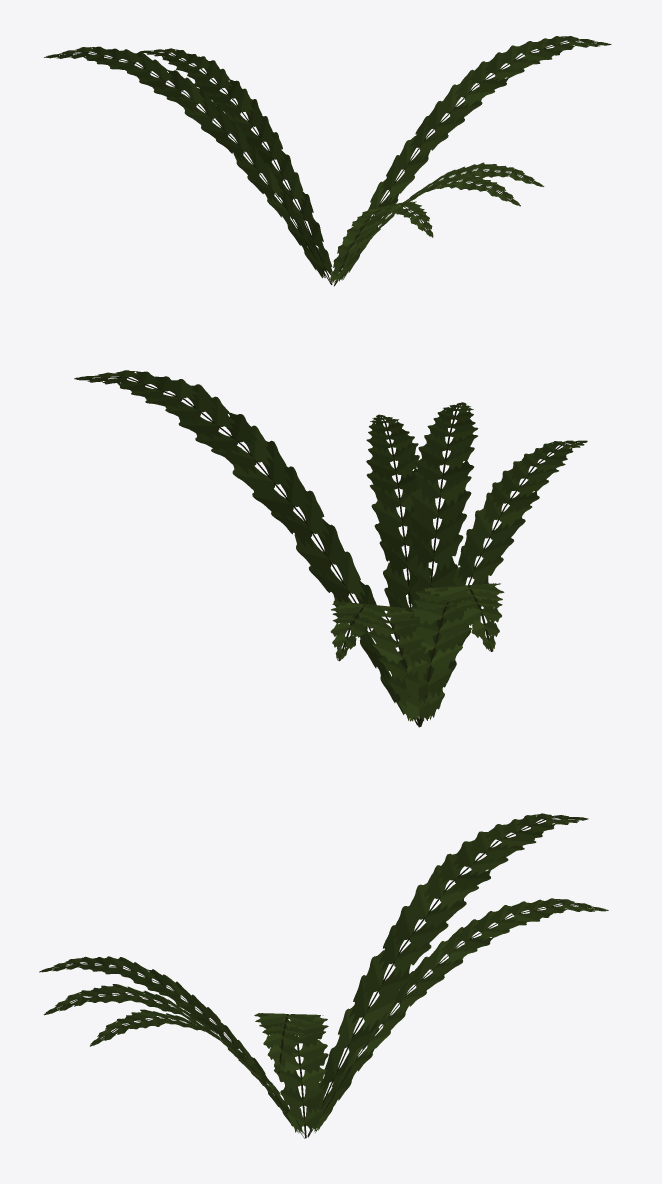
Rendered from fern_1_burnt3.glb.
The picture shows the model from 3 angles, top to bottom: view 1: azimuth 30°, elevation 25°; view 2: azimuth 150°, elevation 25°; view 3: azimuth 270°, elevation 25°; orthographic projection. The views are drawn at different scales.
Visible parts, largest first — view 1: fern_1_burnt3; view 2: fern_1_burnt3; view 3: fern_1_burnt3.
Boxes of the visible parts, x1,y1,x2,y2 form: fern_1_burnt3: (44,36,611,286); fern_1_burnt3: (74,370,587,727); fern_1_burnt3: (39,813,608,1138).
Size of the model in its own units: 1.61 by 0.6136 by 1.49.
Materials: 1 (1 with a texture image).
